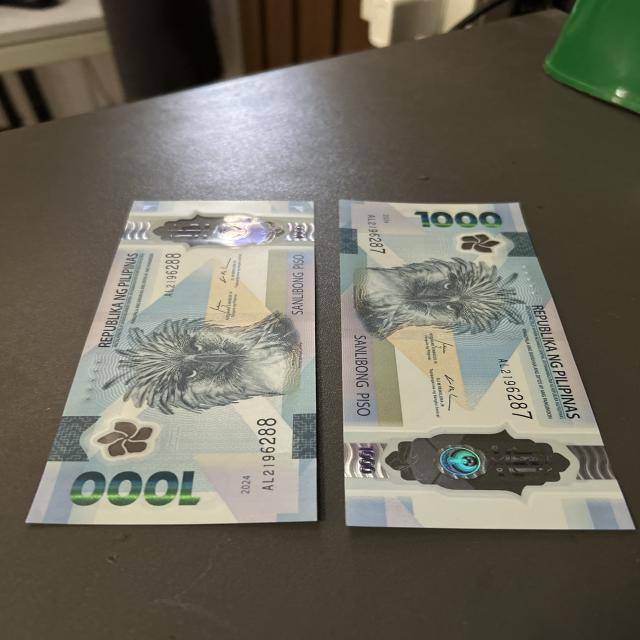clear_window: (364, 426, 570, 496), (152, 206, 284, 252)
eagle: (107, 320, 300, 409), (350, 264, 528, 332)
sampaguita: (97, 418, 159, 460), (459, 229, 497, 258)
serial_number: (486, 350, 542, 436), (245, 414, 288, 502), (352, 207, 391, 265), (159, 249, 191, 301)
value: (70, 471, 200, 508)
